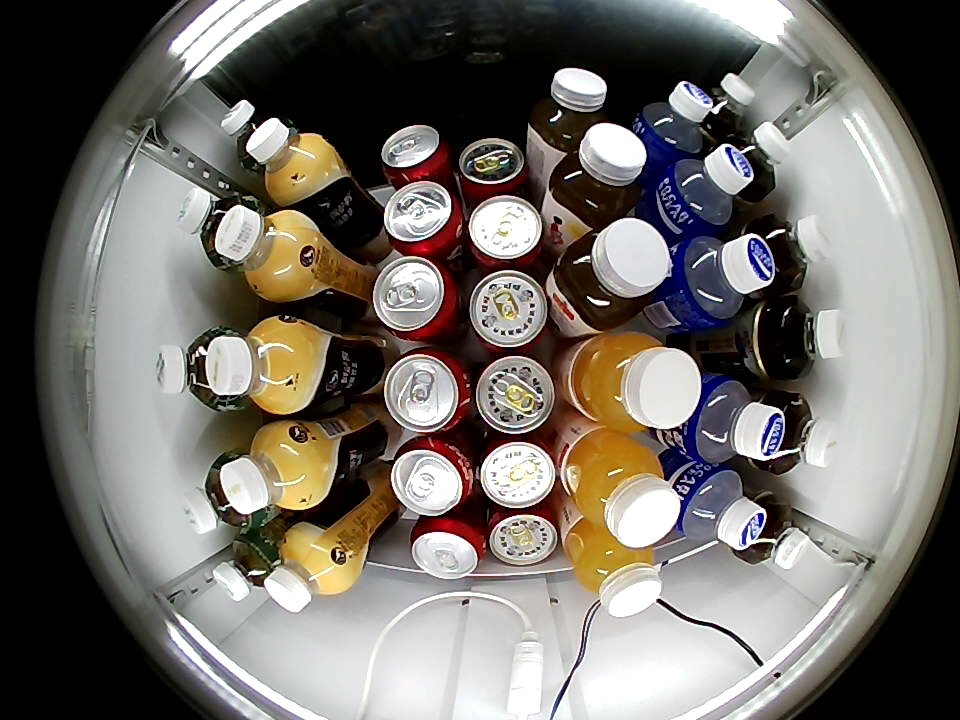asamu: (206, 317, 305, 414), (215, 204, 311, 294), (219, 426, 317, 513), (246, 117, 336, 197), (264, 535, 346, 614)
baokuangli: (666, 232, 775, 328), (676, 373, 784, 465), (658, 144, 755, 234), (675, 463, 767, 551), (633, 81, 712, 161)
chapai: (551, 218, 672, 331), (548, 123, 648, 227), (528, 67, 609, 154)
kele: (383, 347, 471, 434), (371, 255, 458, 341), (390, 436, 474, 517), (383, 181, 461, 256), (409, 518, 485, 580), (380, 124, 449, 181)
moliqingcha: (154, 326, 232, 411), (182, 456, 261, 534), (176, 186, 251, 263), (212, 527, 283, 602), (219, 99, 284, 169)
wangzainiunai: (466, 269, 550, 352), (472, 354, 557, 435), (465, 194, 546, 273), (477, 433, 558, 510), (486, 503, 560, 567), (456, 137, 531, 200)
weic: (561, 428, 681, 549), (567, 332, 701, 431), (563, 516, 663, 616)
wulongcha: (764, 392, 840, 477), (749, 214, 833, 290), (773, 297, 848, 380), (746, 498, 811, 570), (730, 121, 791, 190), (698, 73, 756, 137)
